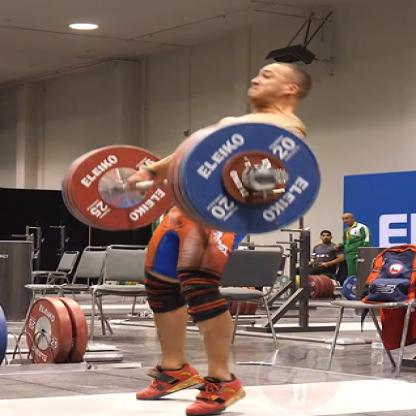Barbell: (163, 119, 331, 237)
